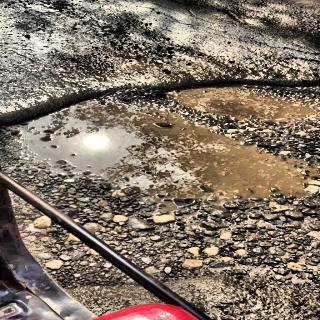crack: (252, 42, 320, 68)
pothole: (13, 78, 320, 272)
